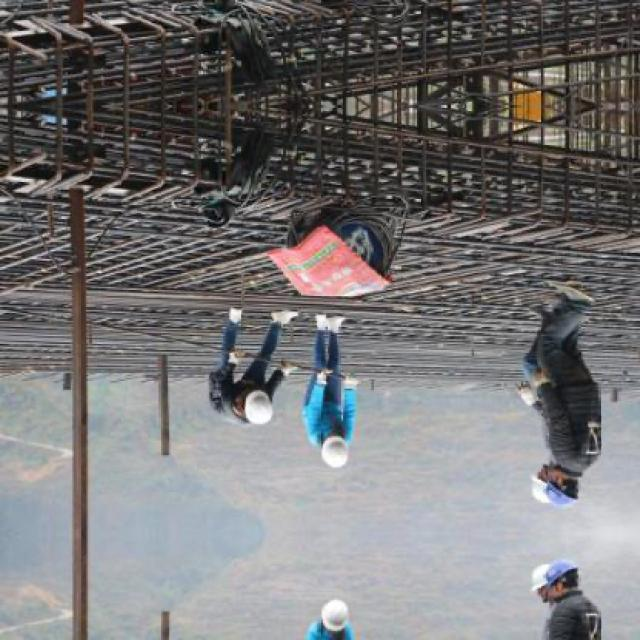con casco: (518, 457, 594, 522), (226, 375, 274, 437), (308, 423, 360, 480)
